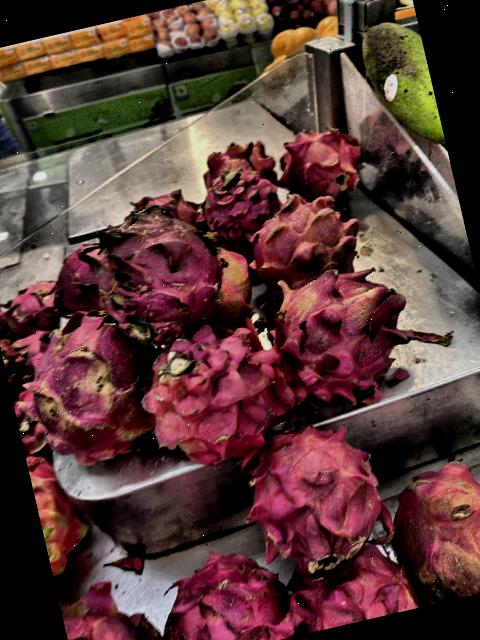buah-naga-belum-matang: (254, 254, 425, 402), (374, 451, 480, 610), (234, 185, 369, 287)
buah-naga-matang: (228, 408, 410, 570), (8, 304, 167, 474), (72, 190, 239, 348), (139, 327, 300, 472), (133, 543, 294, 640), (274, 538, 418, 636), (268, 117, 373, 206), (186, 162, 280, 241), (59, 580, 173, 640), (188, 129, 289, 194)
